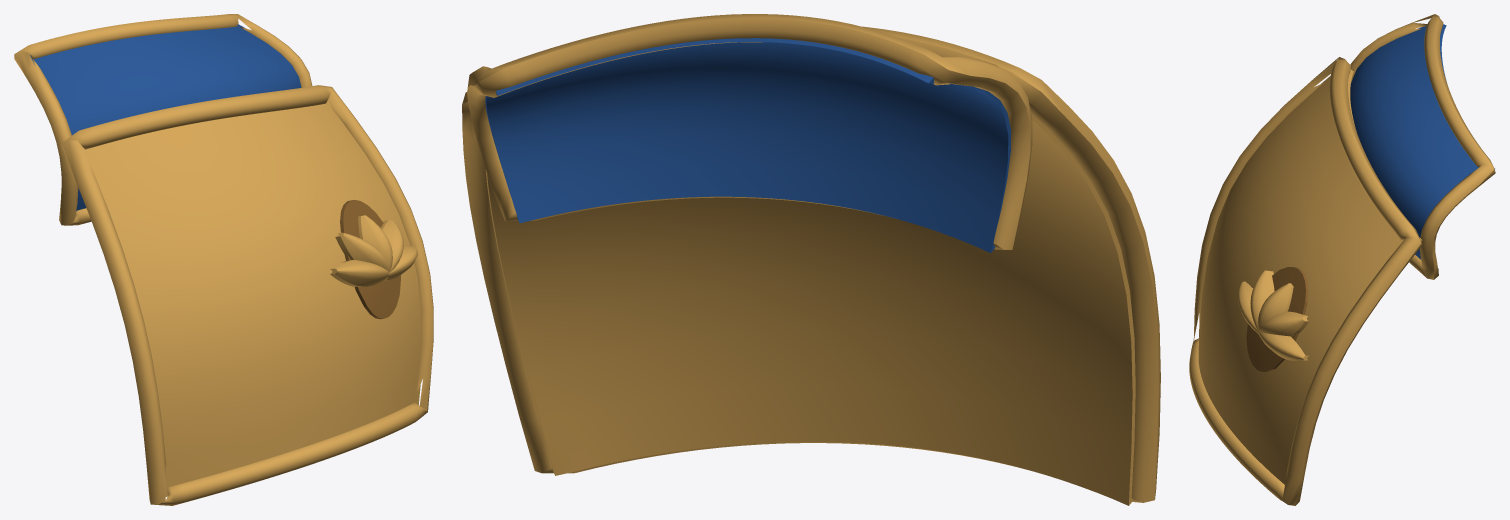
Rendered from shoulder-armour-near.glb.
3 views of the same model, side by side, from view 1: azimuth 30°, elevation 25°; view 2: azimuth 150°, elevation 25°; view 3: azimuth 270°, elevation 25° (orthographic). The views are drawn at different scales.
Visible parts, largest first — view 1: OriginalLeftShoulderArmour; view 2: OriginalLeftShoulderArmour; view 3: OriginalLeftShoulderArmour.
Boxes of the visible parts, left/top/right/bottom form: OriginalLeftShoulderArmour: left=14, top=14, right=433, bottom=505; OriginalLeftShoulderArmour: left=462, top=14, right=1160, bottom=505; OriginalLeftShoulderArmour: left=1189, top=14, right=1495, bottom=505.
Bounding box in the file's own units: 0.1065 × 0.1124 × 0.0884.
